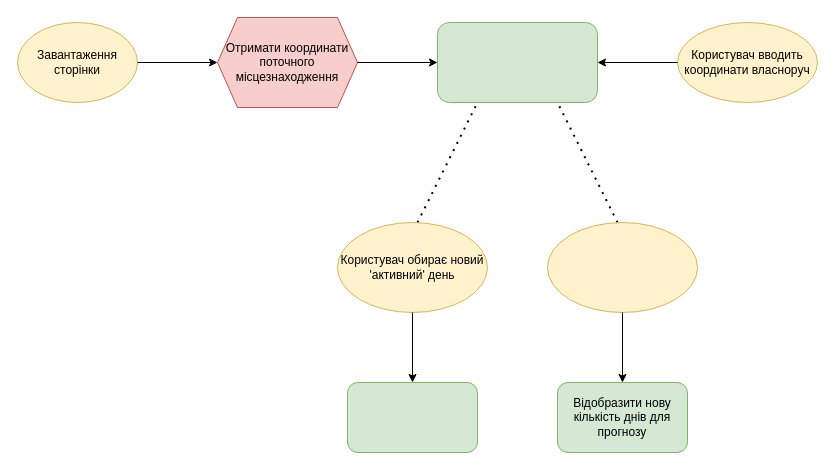
Some shapes in this 835 by 470 pixel diagram are drawn without their labels. Here are the shapes that lost their labels. From the top down, the centre of each, then its label:
[517,62]: Відобразити прогноз ('активний' день - сьогодні кількість днів - 7)
[622,267]: Користувач обирає нову кількість днів
[412,417]: Відобразити детальний прогноз для нового 'активного' дня
